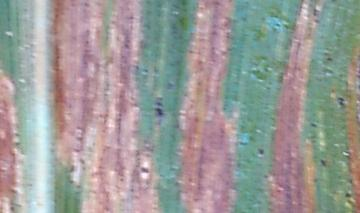tarspot: (138, 165, 151, 177), (154, 106, 165, 120), (336, 94, 346, 109), (324, 54, 335, 65), (256, 147, 266, 157), (318, 157, 327, 168), (343, 191, 353, 200), (310, 120, 318, 130)
